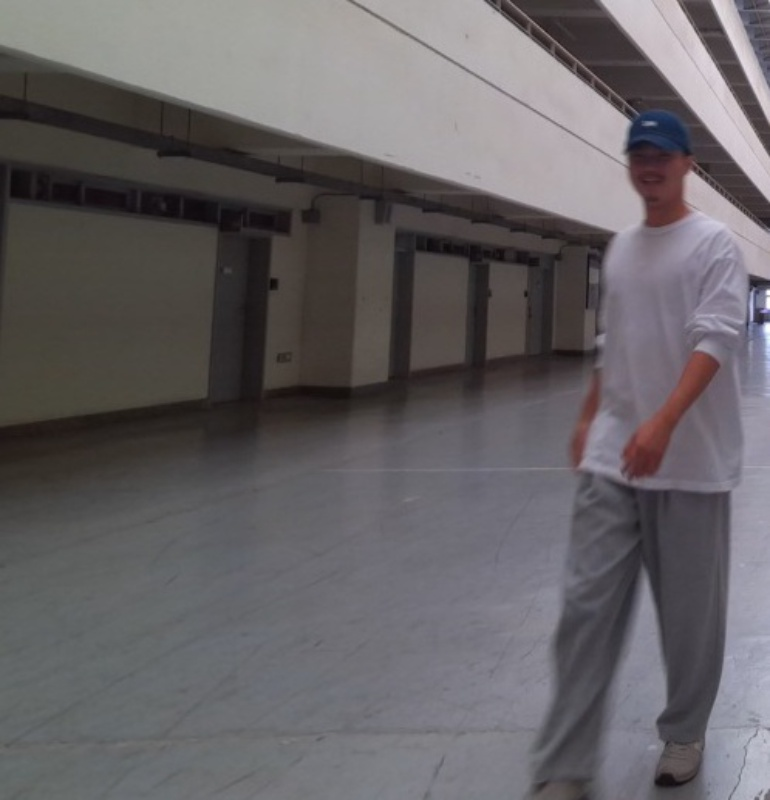person: (535, 108, 767, 799)
